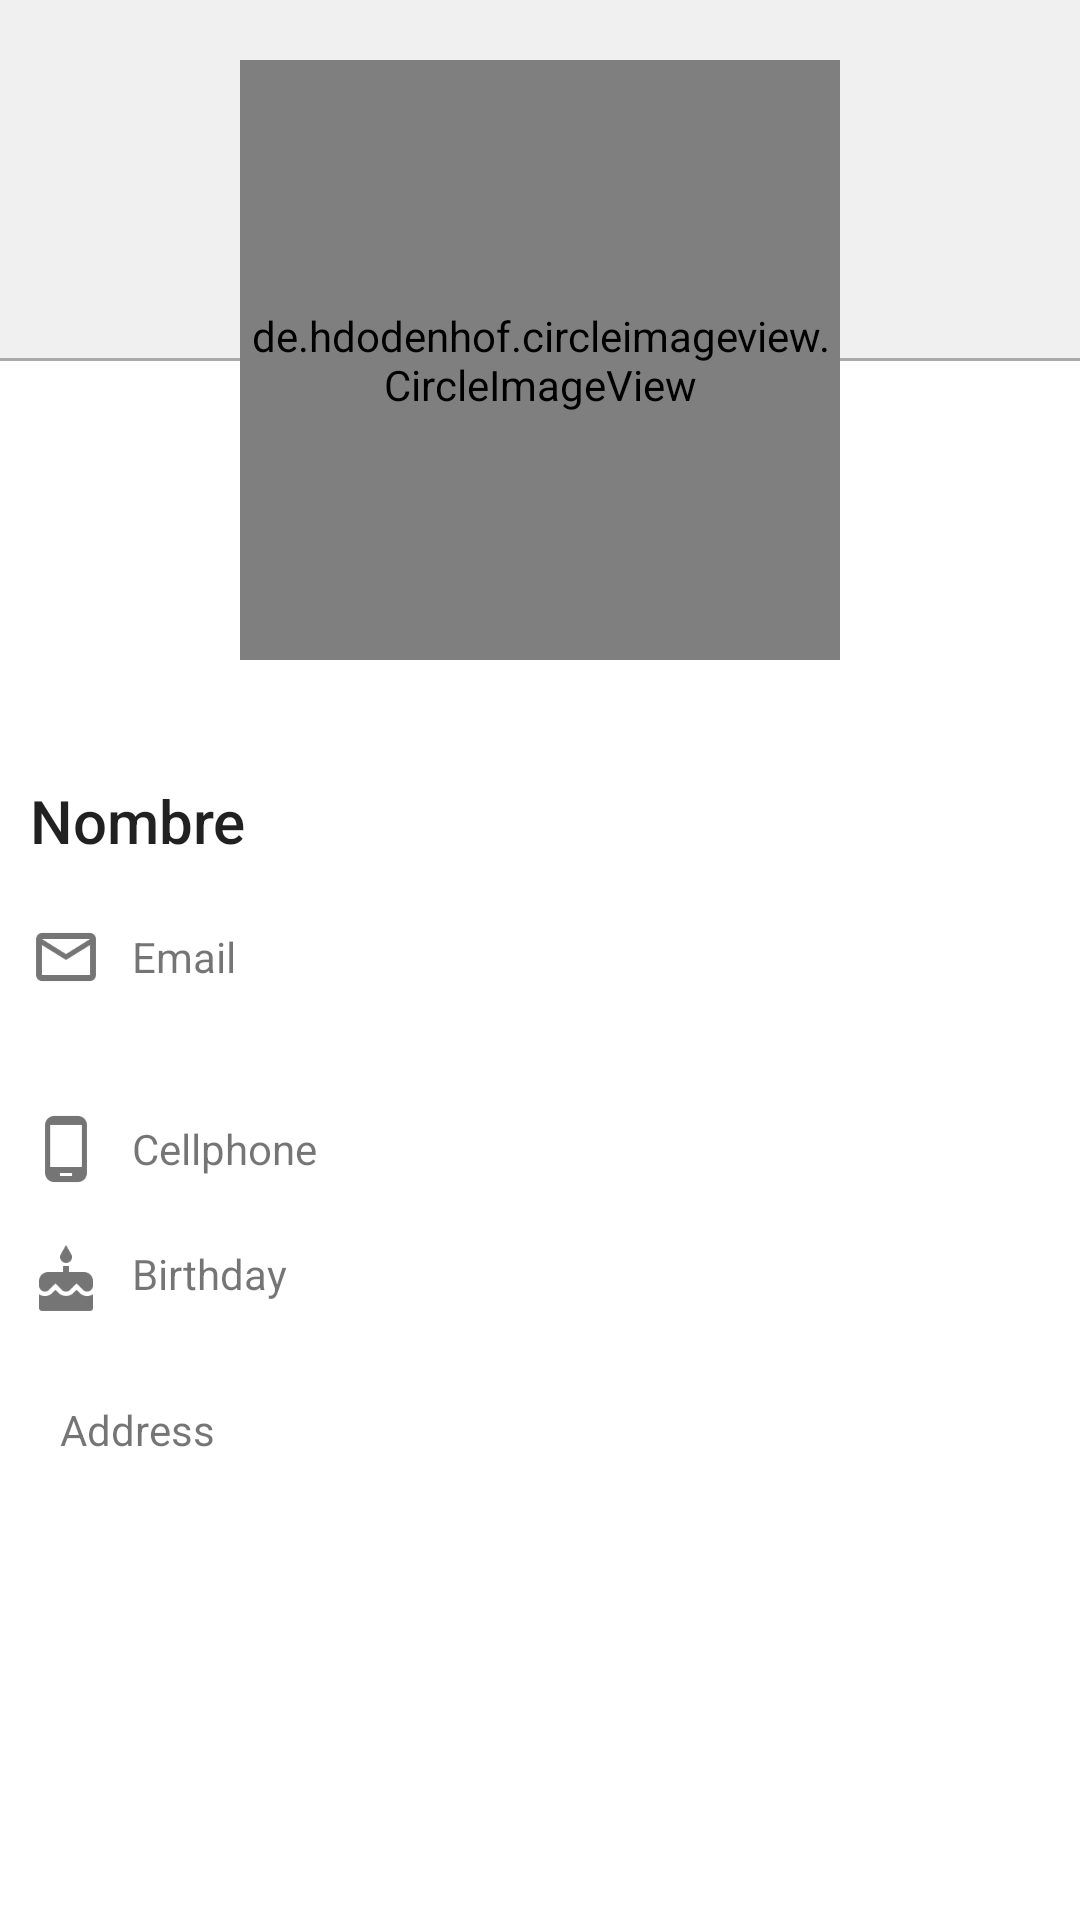

Icons on this 1080px x 1920px Android screen, each with the point to tap as (x,y):
cake: (66,1278)
phone android: (66,1149)
